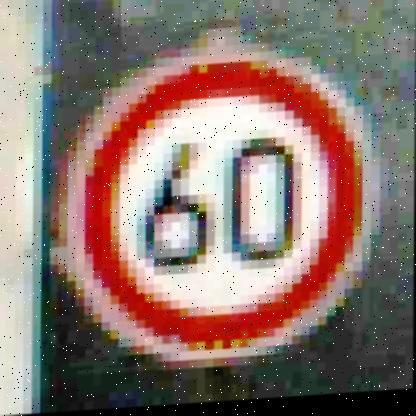Speed Limit -60-: (64, 43, 385, 370)
